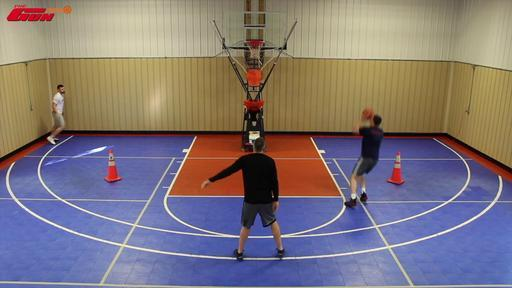ball: (362, 108, 374, 120)
human: (201, 138, 285, 260), (344, 114, 384, 208), (46, 84, 66, 144)
rim: (244, 40, 264, 58)
